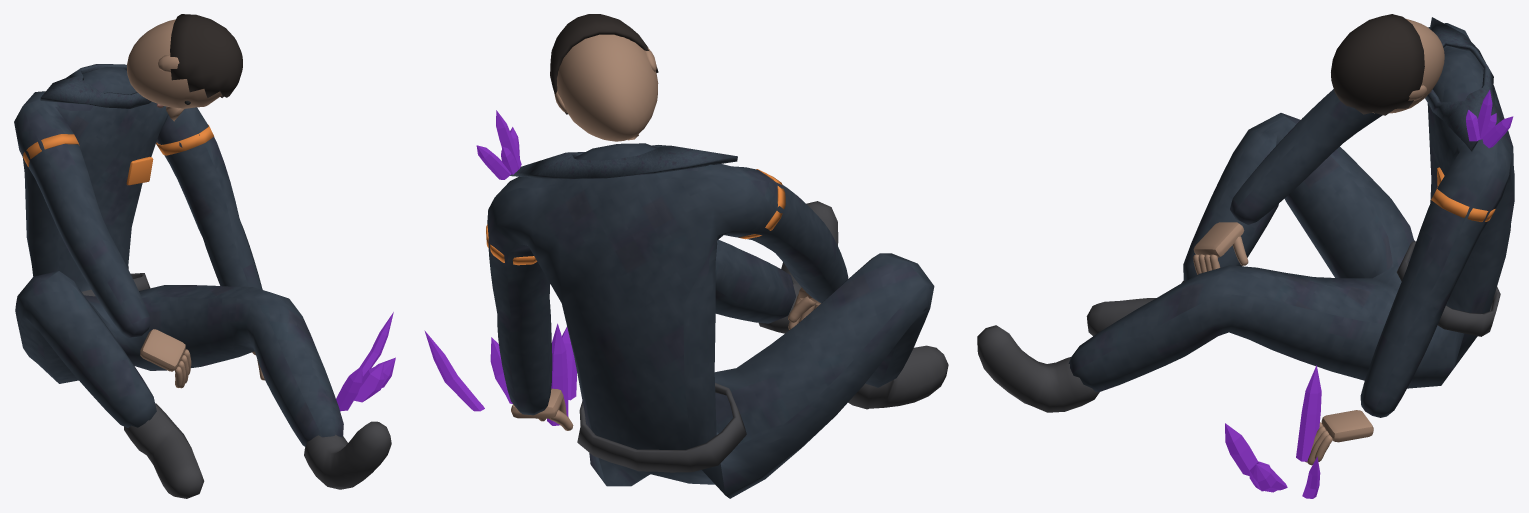
Rendered from corpse_sitting.glb.
3 renders of one model, left to right at view 1: azimuth 30°, elevation 25°; view 2: azimuth 150°, elevation 25°; view 3: azimuth 270°, elevation 25°, orthographic. The views are drawn at different scales.
Visible parts, largest first — view 1: corpse_sitting; view 2: corpse_sitting; view 3: corpse_sitting.
Part boxes in pixels (left/top/right/bottom): corpse_sitting: left=14, top=14, right=395, bottom=498; corpse_sitting: left=424, top=14, right=948, bottom=498; corpse_sitting: left=977, top=14, right=1514, bottom=498.
Size of the model in its own units: 0.9308 by 0.8465 by 1.01.
8 materials, 1 textured.
